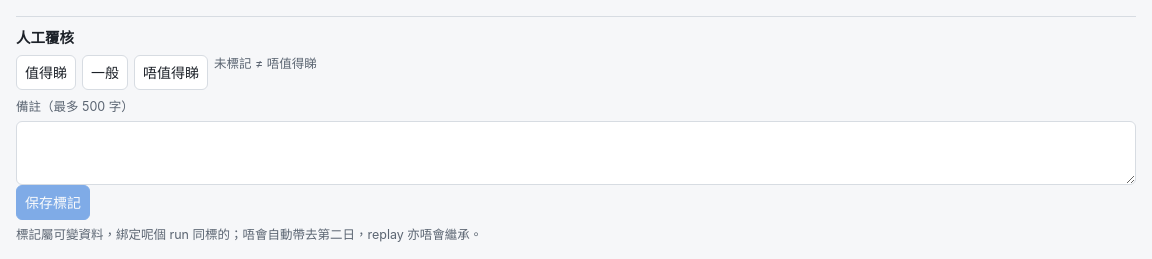
Scenario: ReviewPanel › shows 已保存 only after a 2xx response, never before
expect the element showing "值得睇 一般 唔值得睇 未標記 ≠ 唔值得睇" is shown: met, box x1=16 y1=55 x2=317 y2=90
Step 1. Type "保留輸入" into the text box labelled "備註（最多 500 字）" → (576, 152), box x1=16 y1=120 x2=1136 y2=184
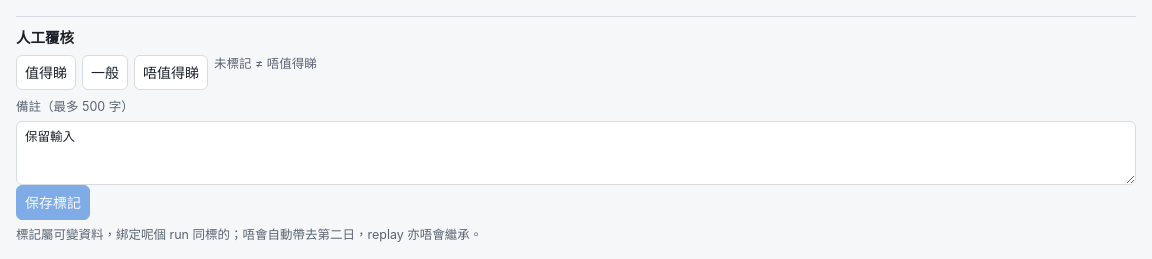
Step 2. Click the button "值得睇" → click(46, 72), box x1=16 y1=55 x2=76 y2=90
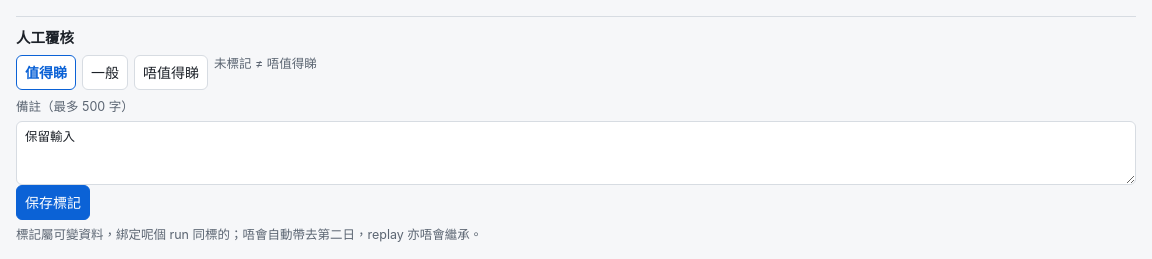
Step 3. Click the button "保存標記" → click(53, 202), box x1=16 y1=184 x2=90 y2=220
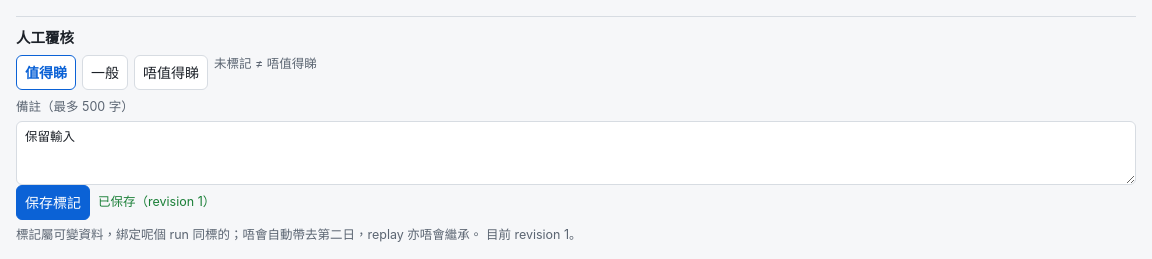
expect the text "已保存（revision 1）" is shown: met, box x1=98 y1=193 x2=215 y2=211
